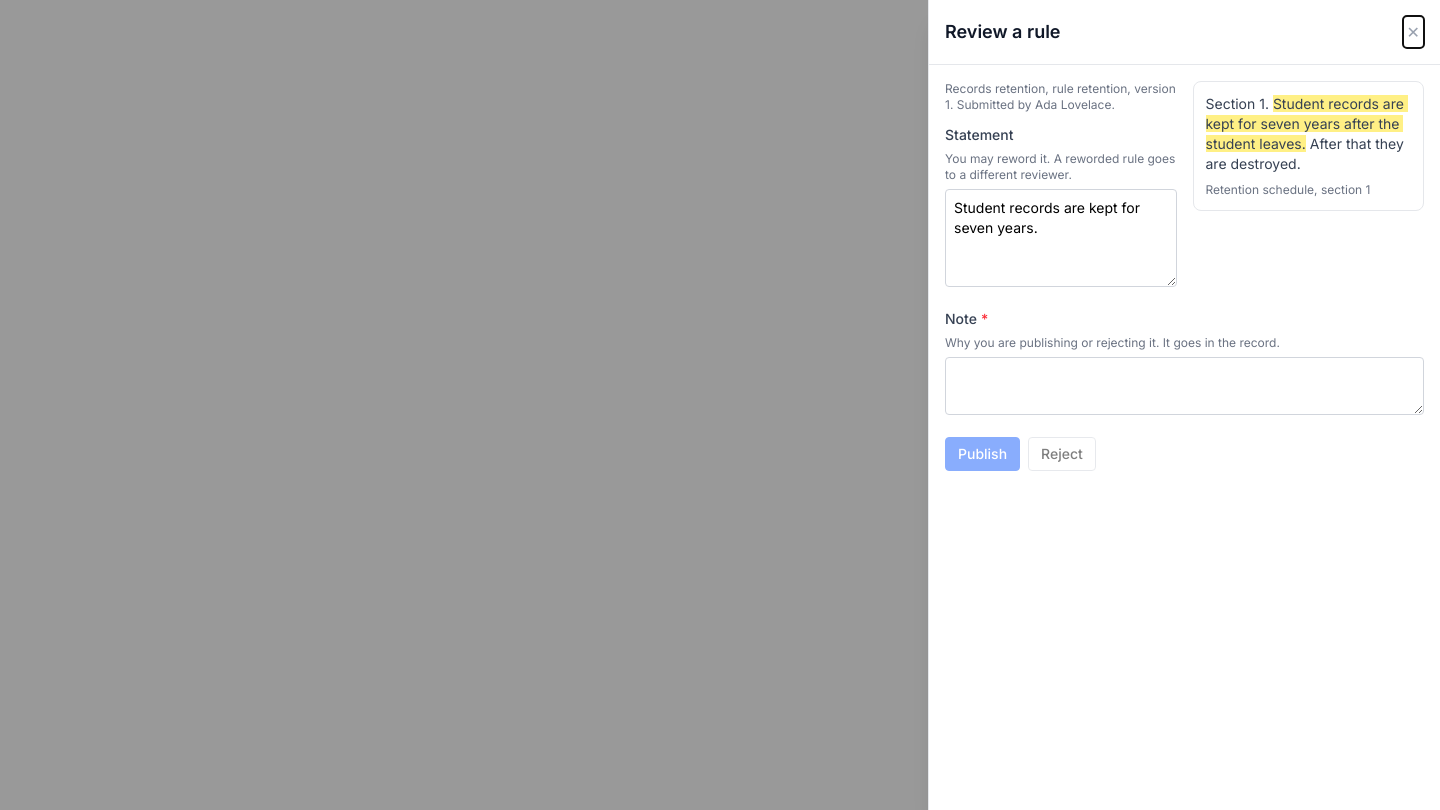
Test: ReviewDrawer › tells the reviewer a reworded rule needs a different reviewer
Step 1. Replace the text in the text box labelled "Statement" with "Student records are kept seven years." → [1061, 238], box [945, 189, 1176, 287]
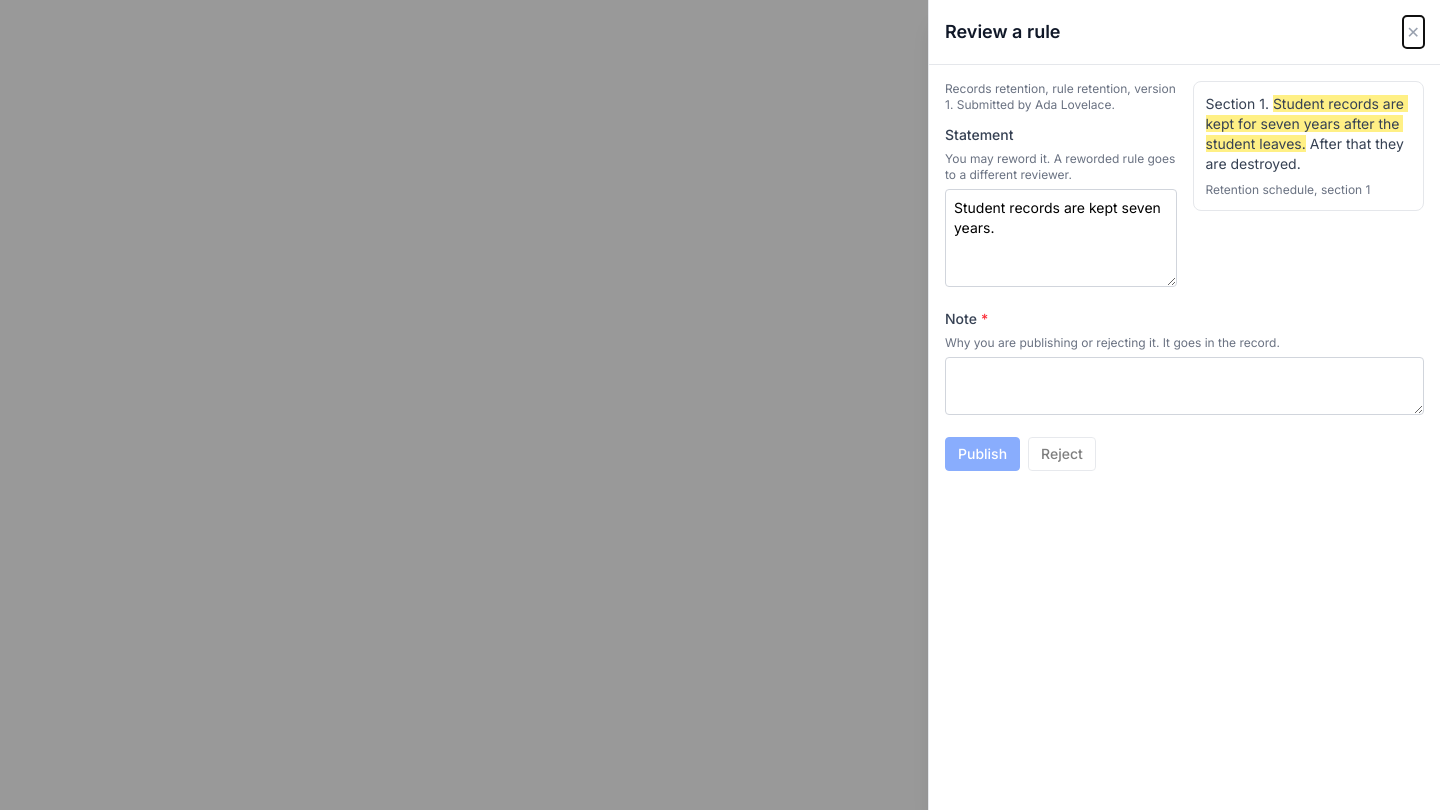
Step 2. Type "Clearer" into the text box labelled "Note*" → [1184, 386], box [945, 357, 1424, 415]
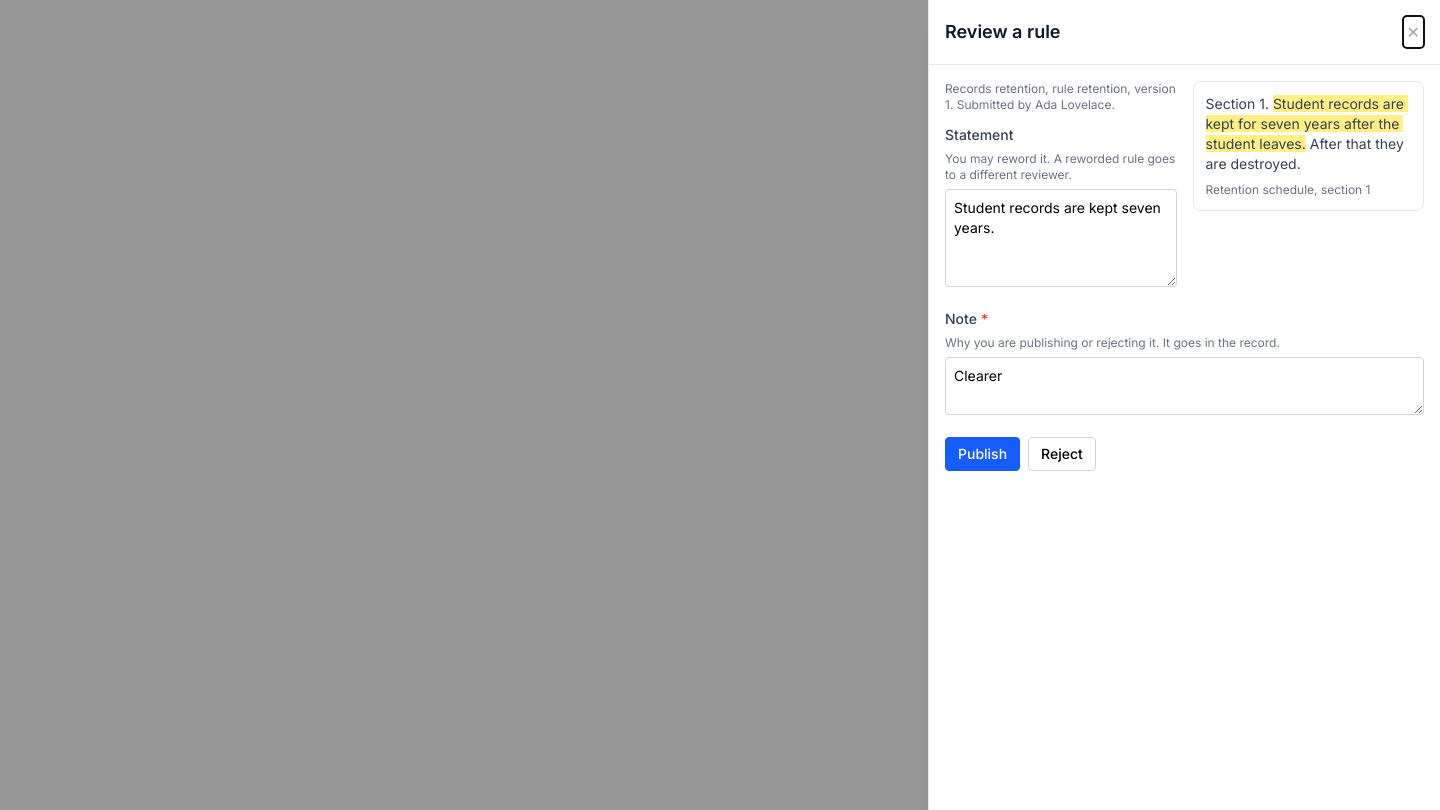
Step 3. Click the button "Publish" → [983, 454], box [945, 437, 1020, 471]
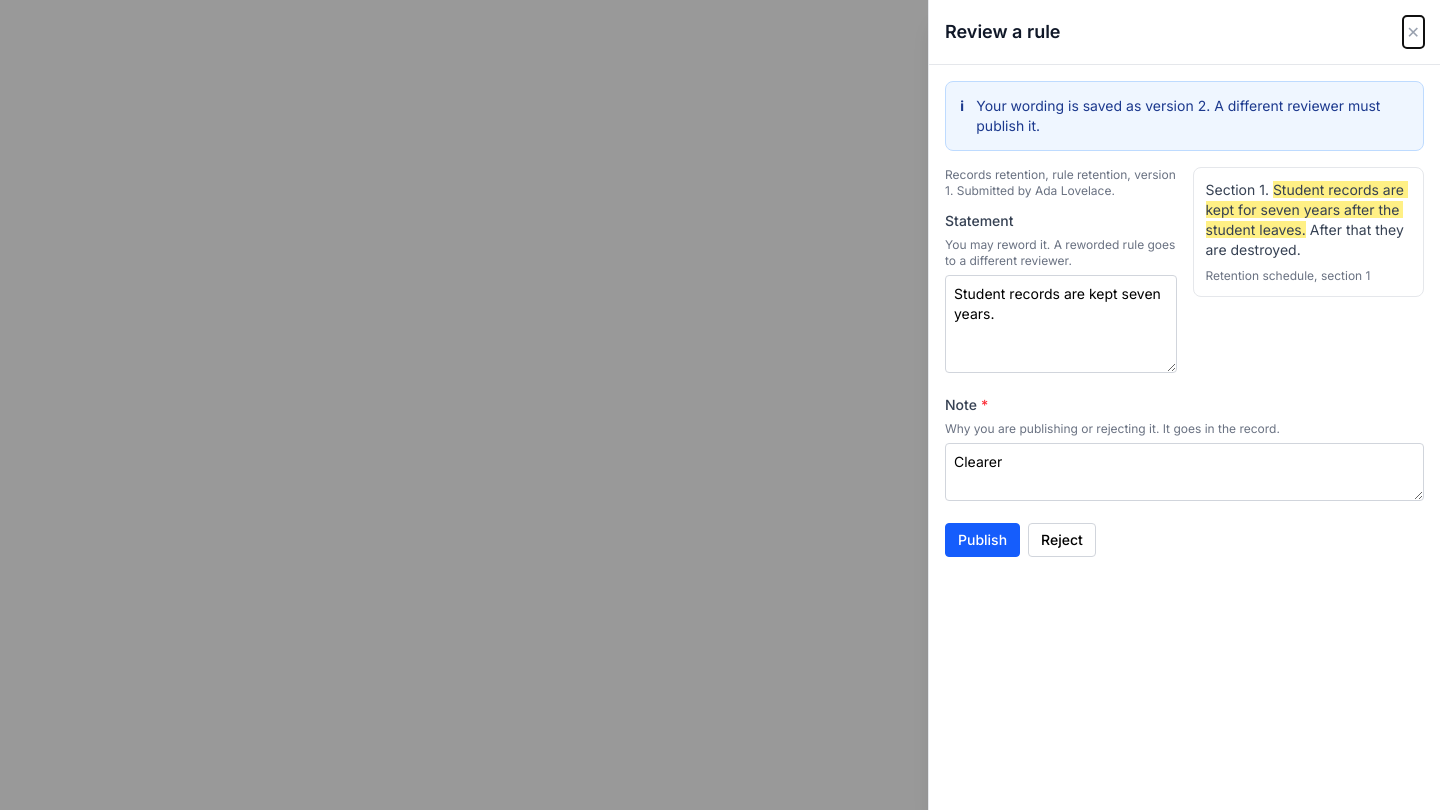
Expected: the text "saved as version 2. A different reviewer must publish it." is shown, [976, 96, 1409, 136]
